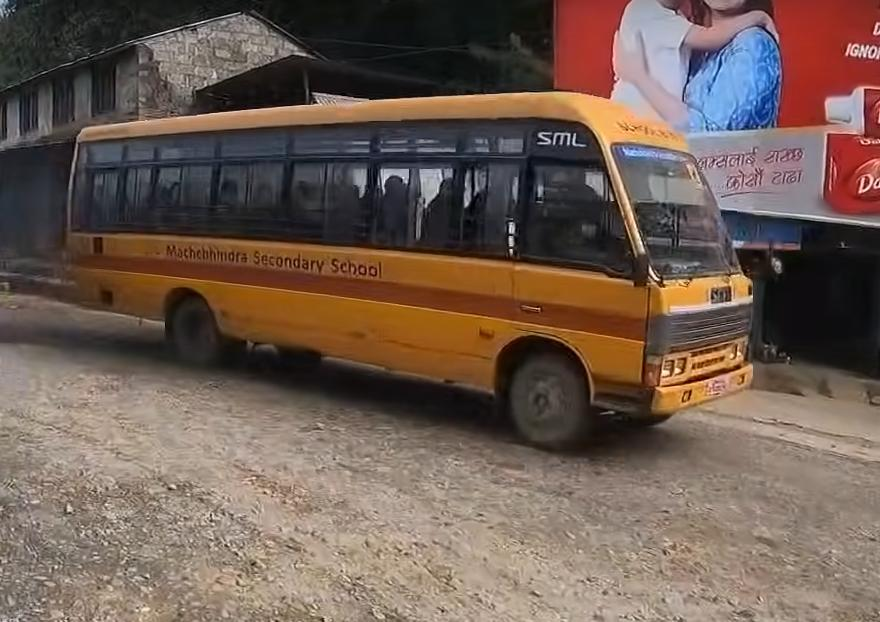school_bus: (53, 84, 761, 452)
